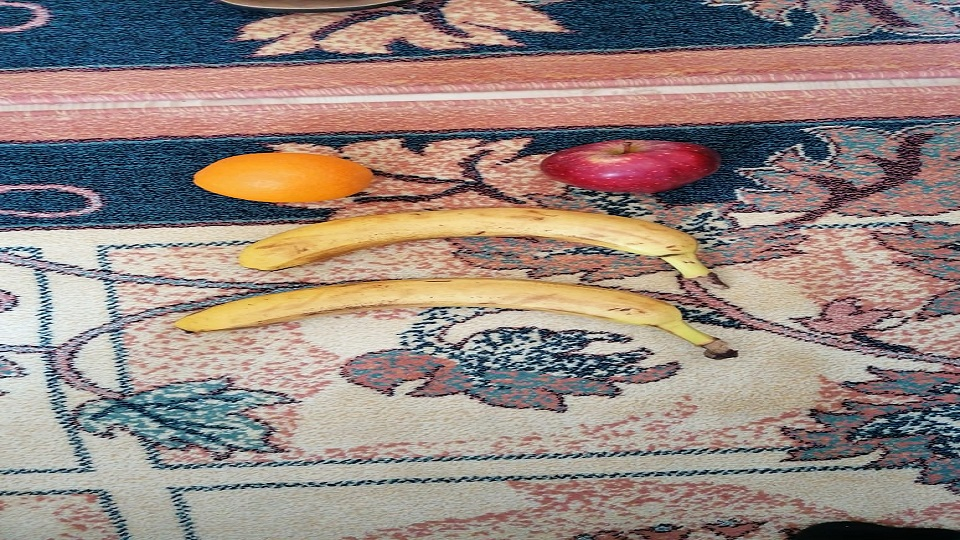elma: (539, 138, 723, 195)
muz: (175, 279, 723, 360), (238, 207, 708, 277)
portakal: (192, 152, 375, 205)
